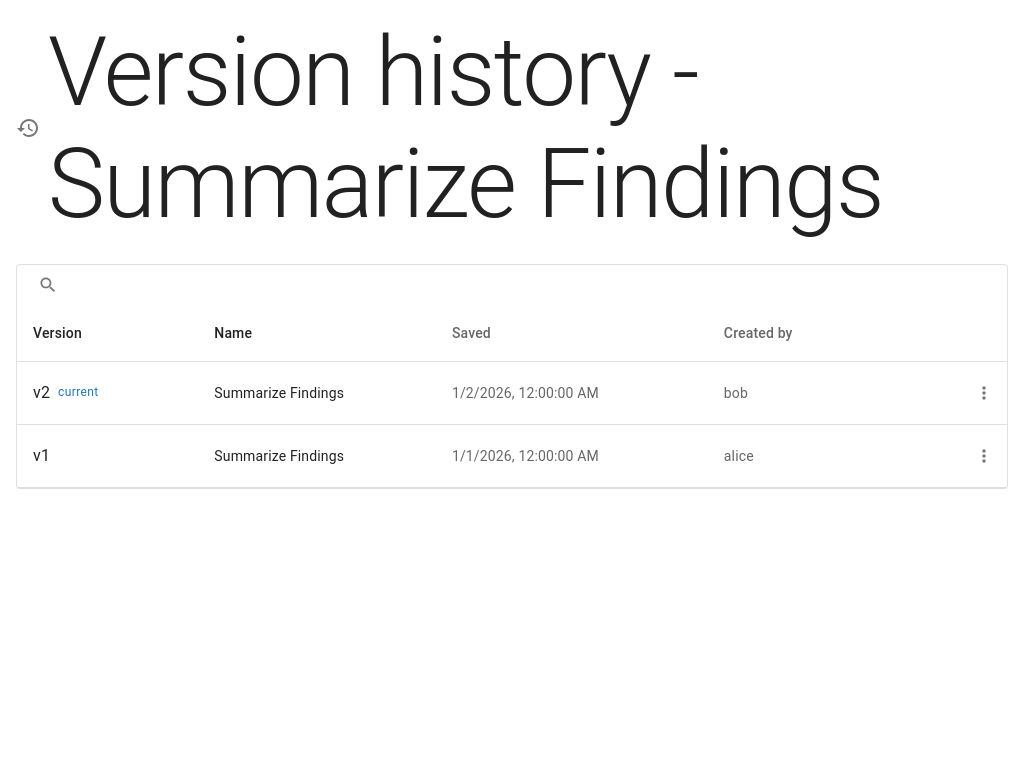
Test: SkillHistory › opens version details from the version link
The width and height of the screenshot is (1024, 768).
What coordinates should you click on to do the following:
click the button "v1"
I would click on:
 (42, 456)
Its box is [33,445,50,467].
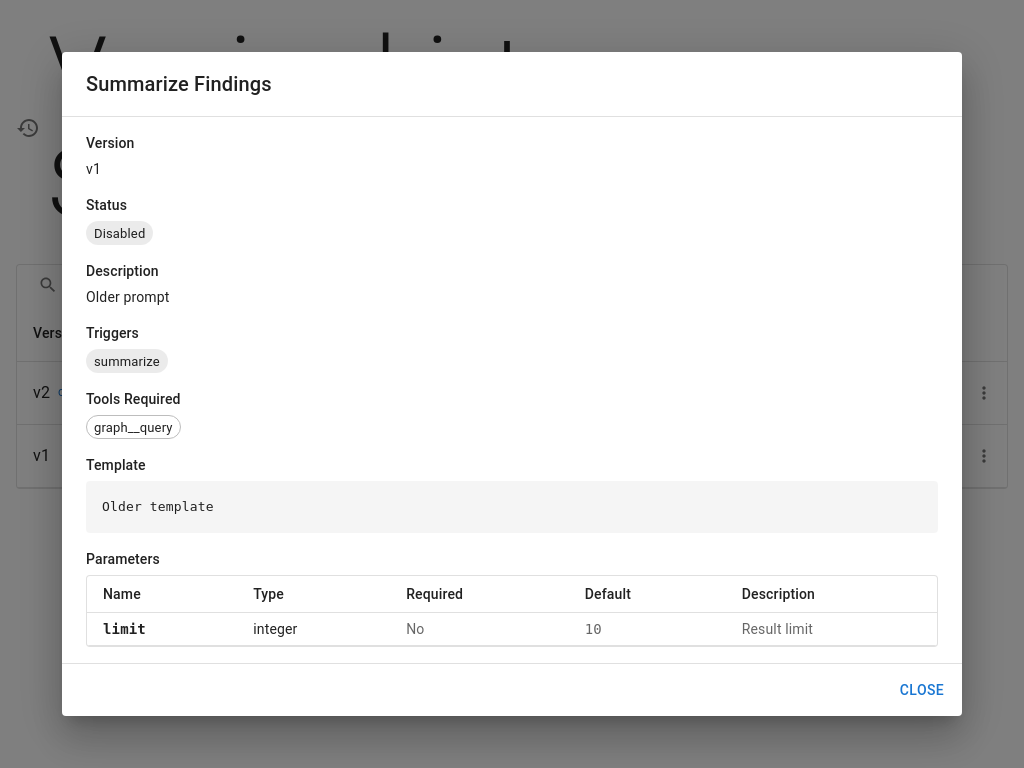
Result: the dialog "Summarize Findings" is shown
Result: the text "Older template" is shown at [86,481,938,533]
